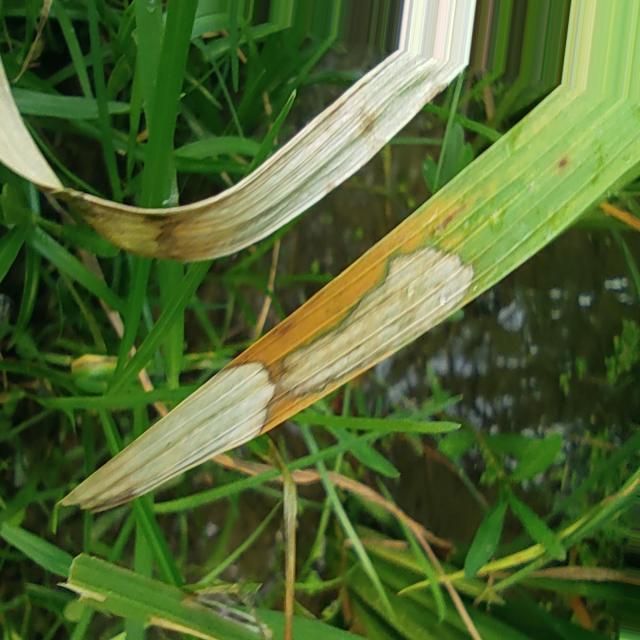Brown_Spot: (559, 157, 569, 170)
Rice False Smut: (0, 0, 475, 262), (61, 362, 275, 510), (276, 247, 474, 404)
